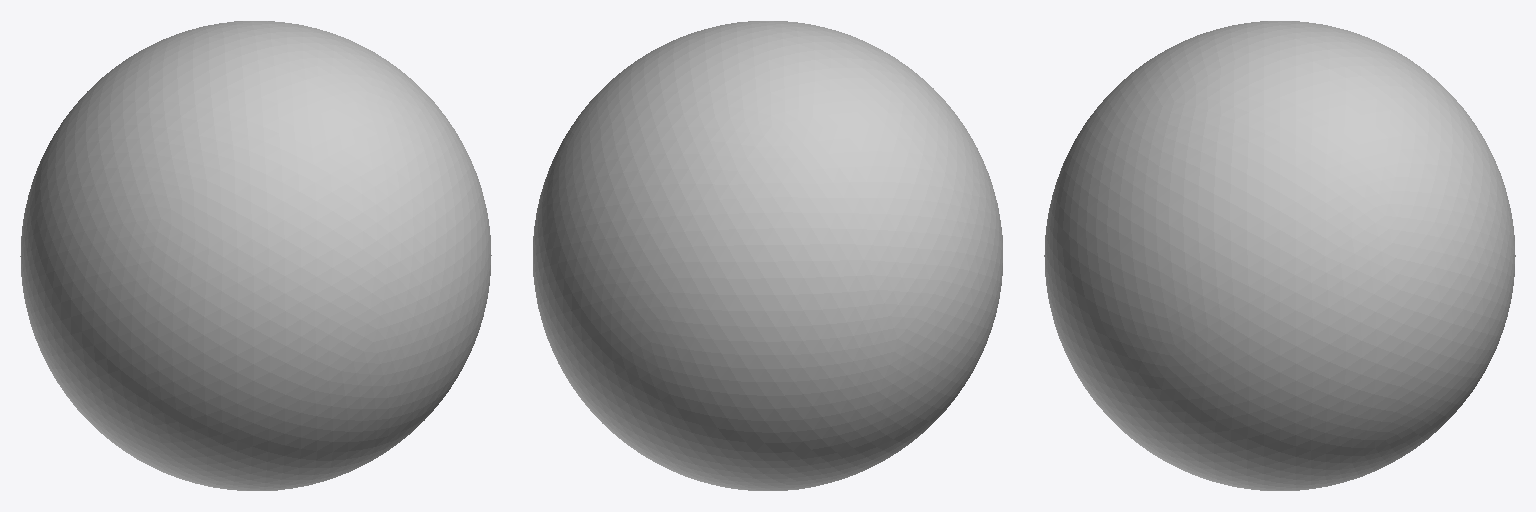
Rendered from ball5120.obj.
3 views of the same model, side by side, from view 1: azimuth 30°, elevation 25°; view 2: azimuth 150°, elevation 25°; view 3: azimuth 270°, elevation 25° (orthographic).
Visible parts, largest first — view 1: pPlatonic1; view 2: pPlatonic1; view 3: pPlatonic1.
Part boxes in pixels (bbox=[...]): pPlatonic1: bbox=[20, 21, 491, 490]; pPlatonic1: bbox=[533, 21, 1002, 490]; pPlatonic1: bbox=[1044, 21, 1515, 490].
Size of the model in its own units: 2 by 2 by 2.